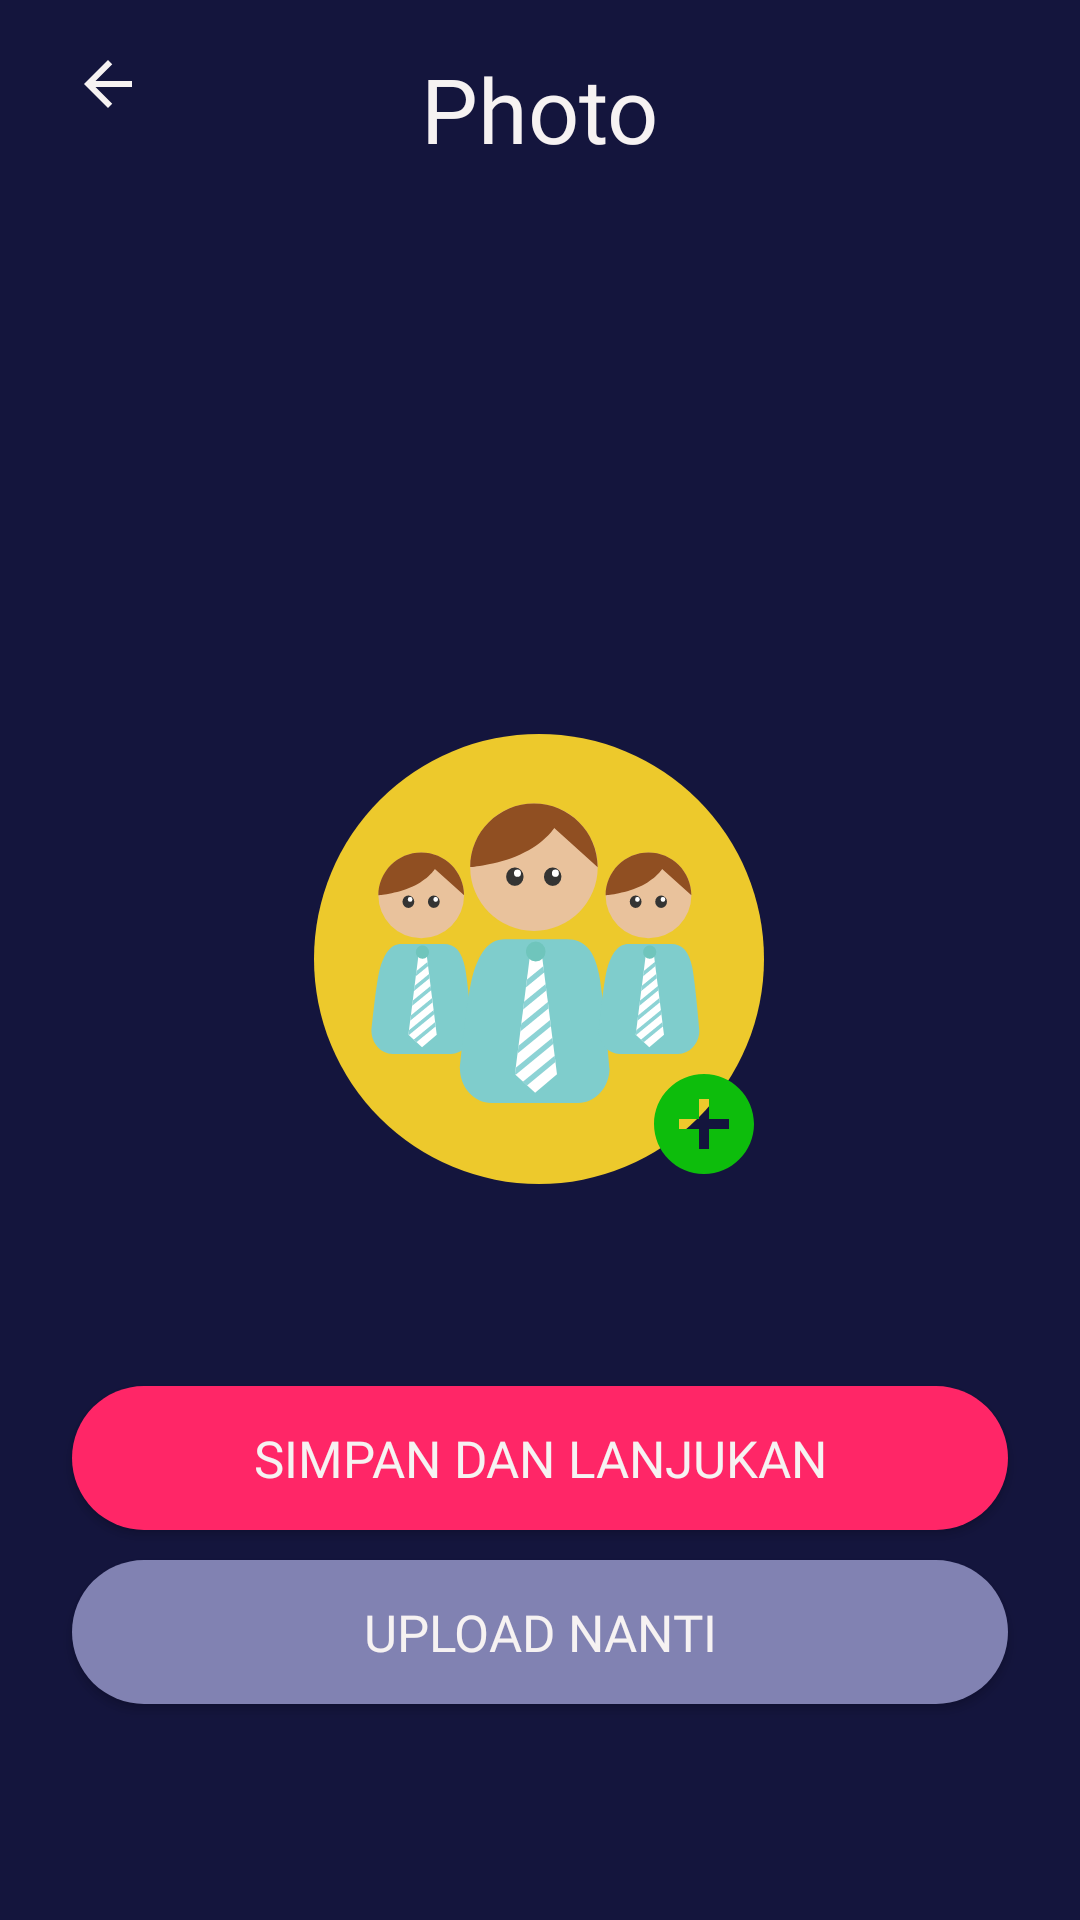

Where icons sit on this 1080w x 1920h app screen, as (x1, y1, x2, y2):
add circle: (644, 1064, 754, 1174)
arrow back: (84, 60, 132, 108)
